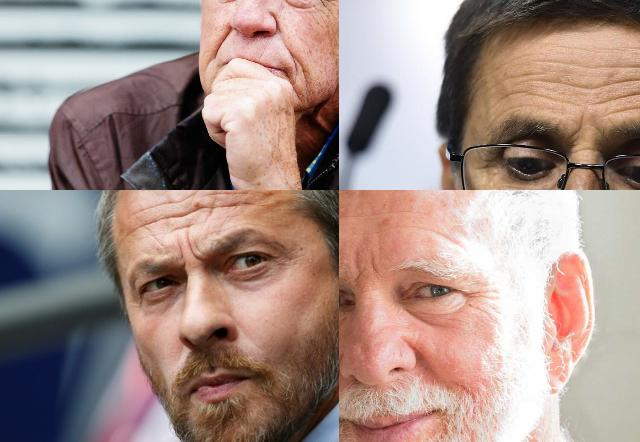crows_feet: (465, 286, 495, 312), (318, 0, 334, 15)
forehead: (497, 66, 569, 112), (580, 68, 626, 112), (178, 190, 206, 232), (211, 190, 255, 214), (406, 218, 450, 242), (130, 216, 172, 232), (339, 209, 386, 223), (132, 196, 172, 212)
frown_line: (176, 238, 202, 266), (350, 252, 370, 288), (564, 118, 584, 150), (363, 251, 381, 277)
gummy_smile: (271, 19, 295, 59), (212, 25, 232, 59)
sad_smile: (293, 58, 311, 88)
